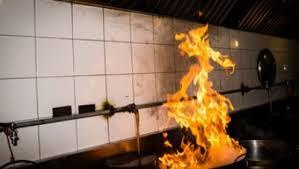fire: (161, 15, 244, 165)
